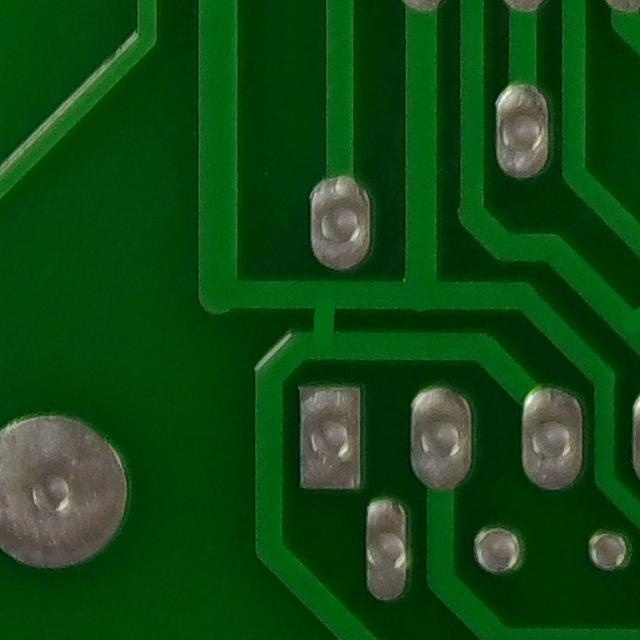short: (274, 270, 366, 370)
